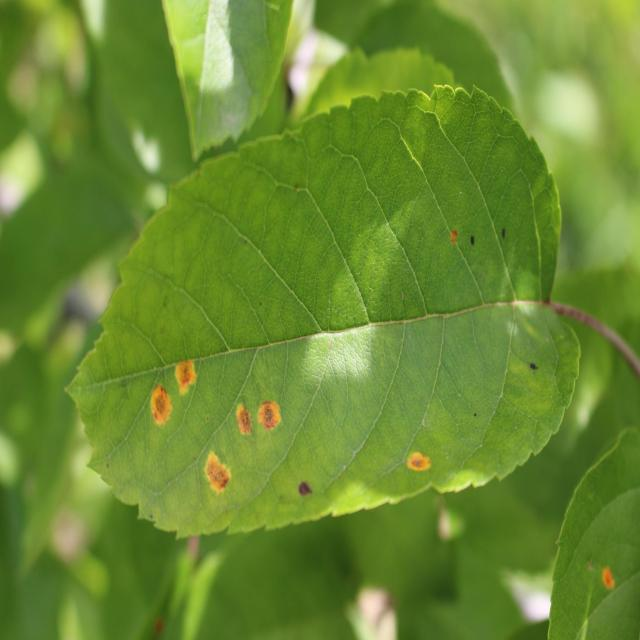Rust: (137, 382, 194, 438), (164, 343, 206, 398), (198, 447, 242, 498), (398, 444, 445, 488), (256, 384, 282, 449), (230, 391, 256, 449), (597, 551, 619, 604), (444, 213, 464, 257)
